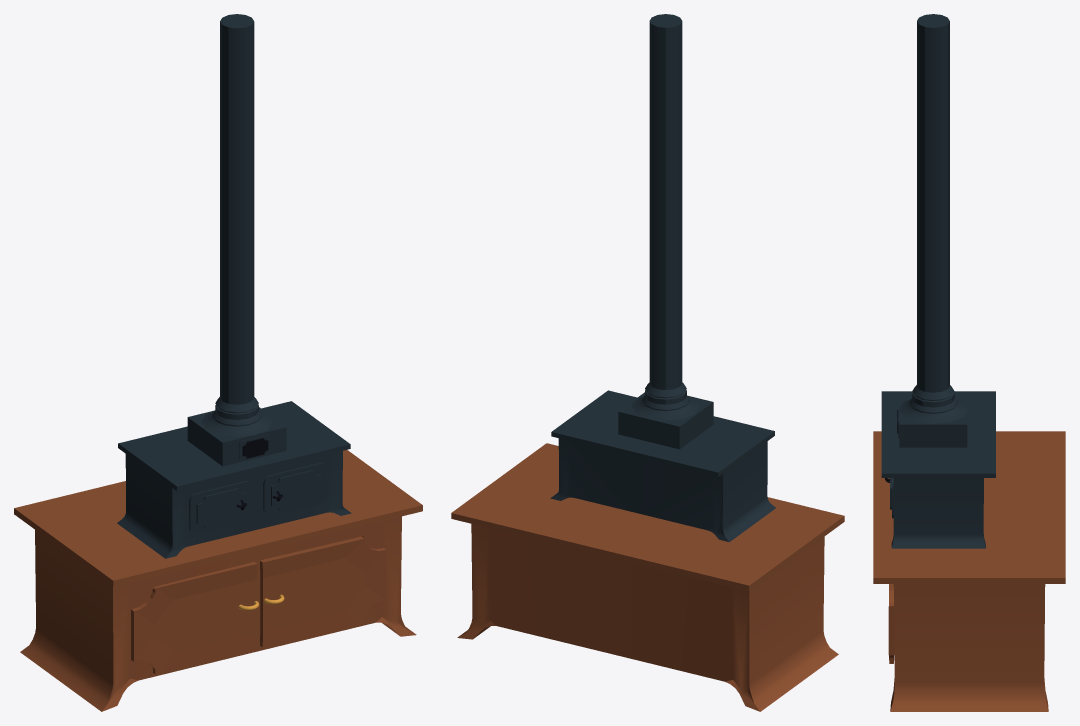
Rendered from SM_Furnace.fbx.
3 renders of one model, left to right at view 1: azimuth 30°, elevation 25°; view 2: azimuth 150°, elevation 25°; view 3: azimuth 270°, elevation 25°, orthographic. The views are drawn at different scales.
Visible parts, largest first — view 1: SM_Table; view 2: SM_Table; view 3: SM_Table.
Part boxes in pixels (box(x1,y1,x2,y2)): SM_Table: box(14, 14, 422, 711); SM_Table: box(451, 14, 844, 711); SM_Table: box(873, 14, 1065, 711).
Size of the model in its own units: 256 by 494 by 140.
